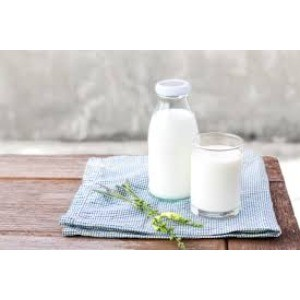milk_brain food: (142, 94, 185, 195), (188, 146, 246, 213)
